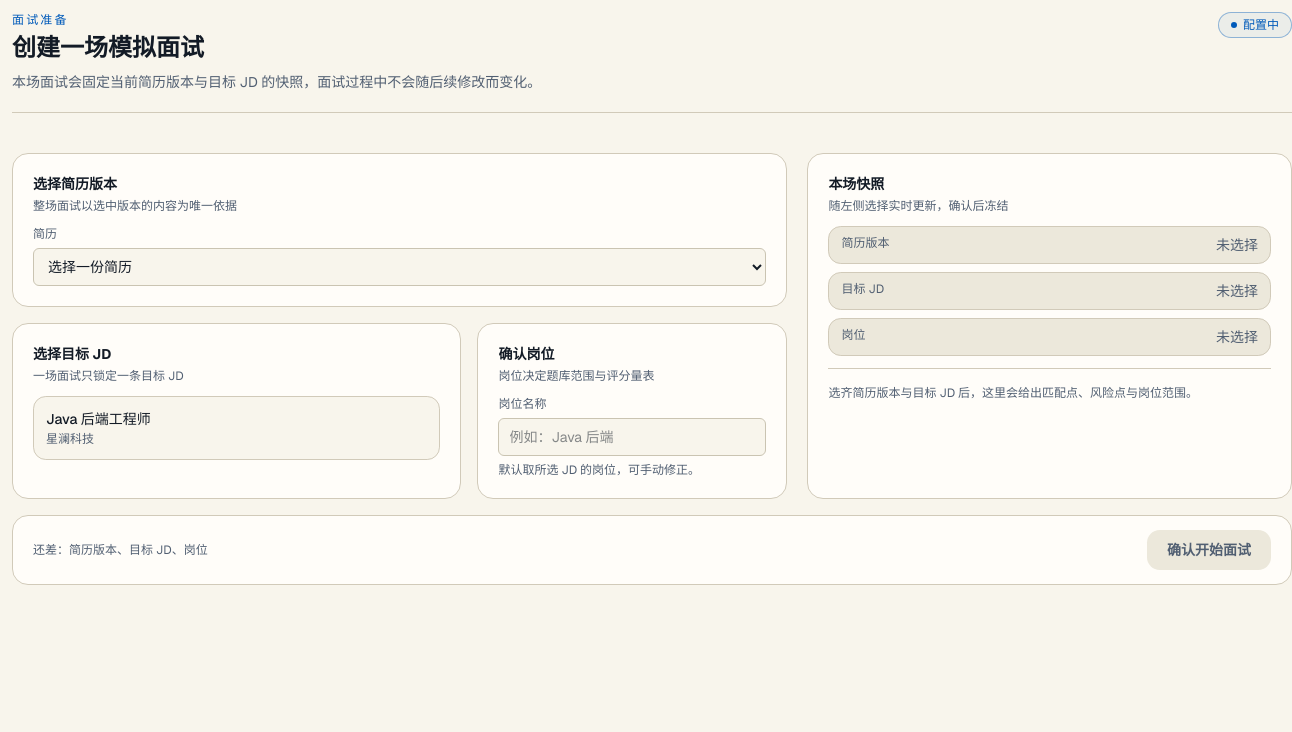
Test: SetupScreen › 选齐简历版本与 JD 后展示真实匹配点/风险点/岗位范围
Select "后端工程师简历" in the dropdown labelled "简历": [400, 267] box [33,248,766,286]
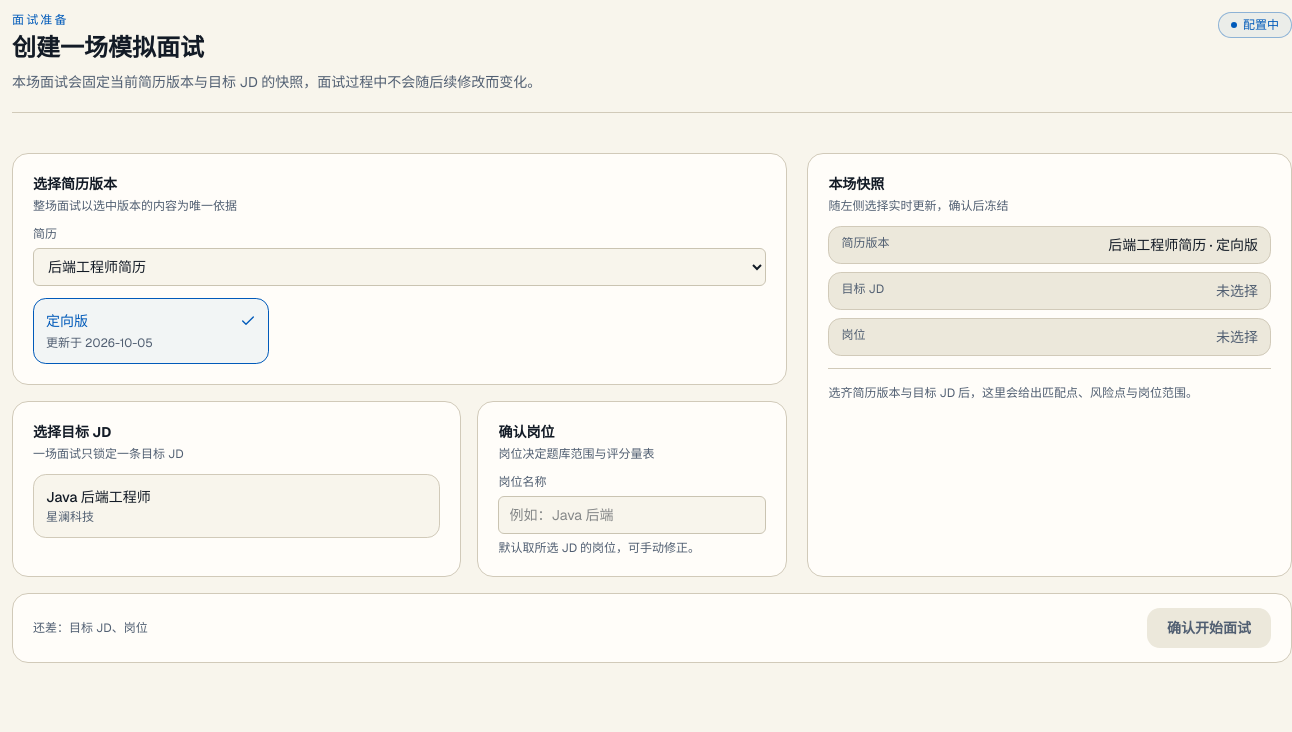
Check: the button "定向版 更新于 2026-10-05" is shown, box [33,298,270,364]
Click the button "Java 后端工程师 星澜科技": [98, 497] box [33,474,440,538]
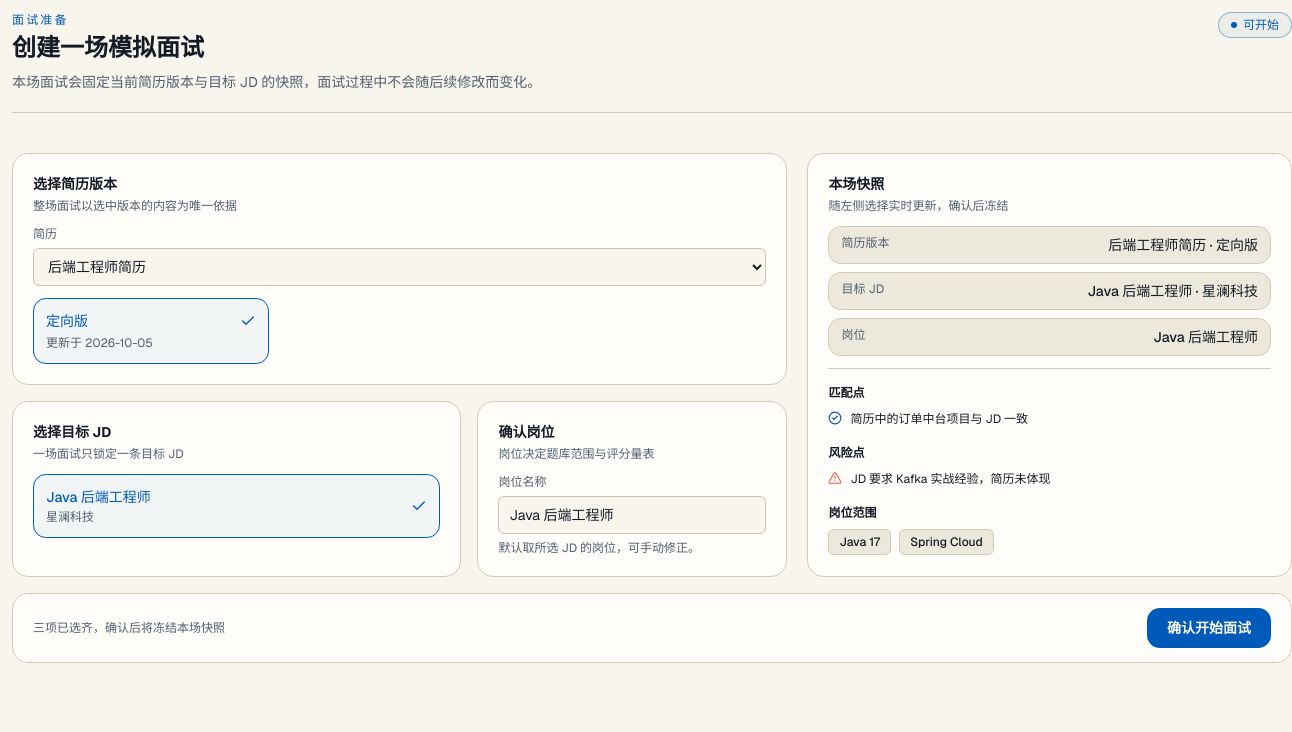
Check: the text "简历中的订单中台项目与 JD 一致" is shown, box [850,409,1028,429]
Check: the text "JD 要求 Kafka 实战经验，简历未体现" is shown, box [850,469,1050,489]
Check: the text "Java 17" is shown, box [828,529,891,555]
